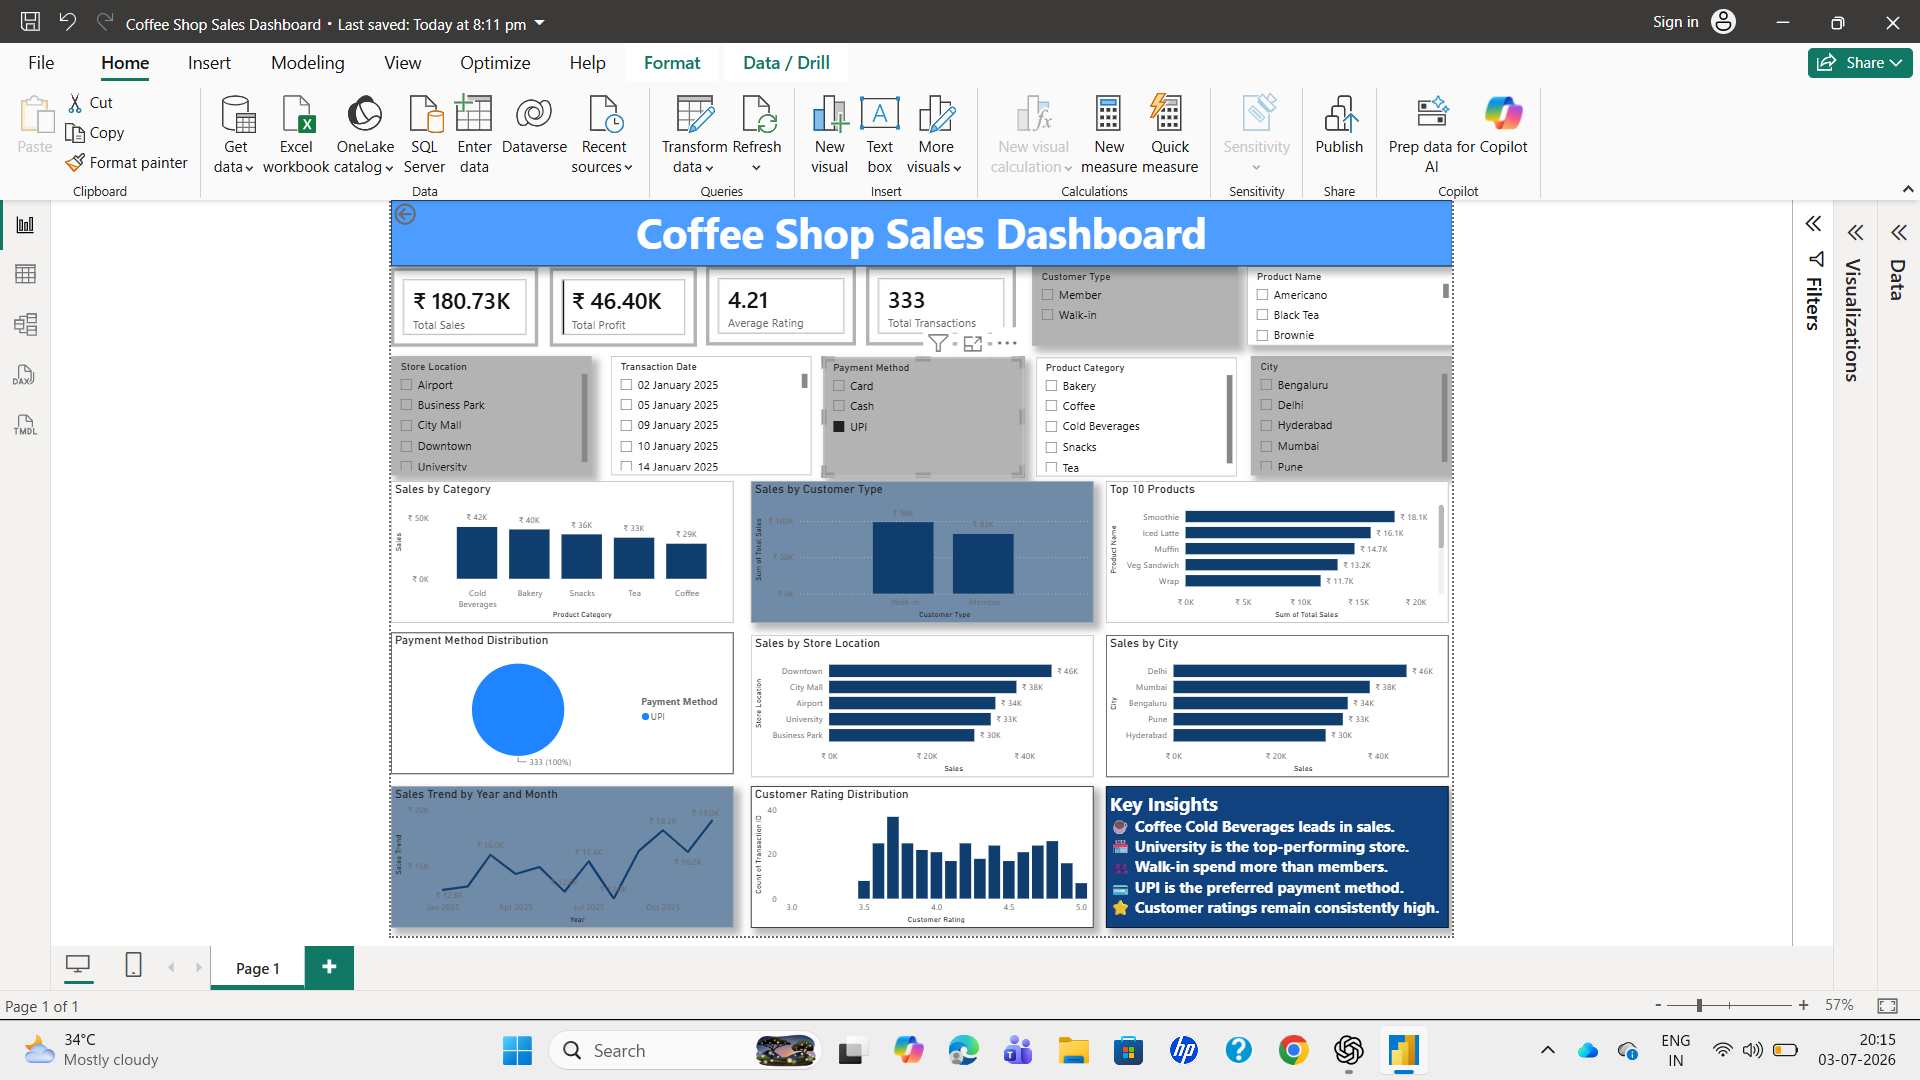

What the dashboard file says about the page in this screenshot:
{"tool":"powerbi","page":{"name":"Page 1","canvas":[1500,1040],"ordinal":0},"visuals":[{"type":"cardVisual","fields":{"Data":["Sum(CoffeeShopSales.Total Sales)"]},"box":[0,96,208,112],"z":0},{"type":"cardVisual","fields":{"Data":["Sum(CoffeeShopSales.Profit)"]},"box":[224,96,208,112],"z":1000},{"type":"cardVisual","fields":{"Data":["Avg(CoffeeShopSales.Customer Rating)"]},"box":[445,93.4,212.3,112.1],"z":2000},{"type":"cardVisual","fields":{"Data":["CoffeeShopSales.Total Transactions"]},"box":[670.9,93.4,212.3,112.1],"z":3000},{"type":"slicer","fields":{"Values":["CoffeeShopSales.City"]},"box":[1216,220.8,283.6,168.1],"z":4000},{"type":"slicer","fields":{"Values":["CoffeeShopSales.Store Location"]},"box":[0,220.8,283,168.1],"z":5000},{"type":"slicer","fields":{"Values":["CoffeeShopSales.Product Category"]},"box":[912,222.5,283.6,168.1],"z":6000},{"type":"slicer","fields":{"Values":["CoffeeShopSales.Customer Type"]},"box":[905.2,93.4,290.4,112.1],"z":7000},{"type":"slicer","fields":{"Values":["CoffeeShopSales.Payment Method"]},"box":[611.4,222.5,283,168.1],"z":8000},{"type":"slicer","fields":{"Values":["CoffeeShopSales.Product Name"]},"box":[1209.2,93.4,290.4,112.1],"z":9000},{"type":"slicer","fields":{"Values":["CoffeeShopSales.Transaction Date"]},"box":[310.8,220.8,283,168.1],"z":10000},{"type":"lineChart","fields":{"Y":["Sum(CoffeeShopSales.Total Sales)"],"Category":["CoffeeShopSales.Transaction Date.Variation.Date Hierarchy.Year","CoffeeShopSales.Transaction Date.Variation.Date Hierarchy.Month"]},"box":[0,829.2,484,200],"z":11000},{"type":"clusteredBarChart","fields":{"Y":["Sum(CoffeeShopSales.Total Sales)"],"Category":["CoffeeShopSales.City"]},"box":[1010.5,614.8,484,200.4],"z":12000},{"type":"clusteredBarChart","fields":{"Category":["CoffeeShopSales.Store Location"],"Y":["Sum(CoffeeShopSales.Total Sales)"]},"box":[507.8,614.8,484,200.4],"z":13000},{"type":"clusteredColumnChart","title":"Sales by Category","fields":{"Category":["CoffeeShopSales.Product Category"],"Y":["Sum(CoffeeShopSales.Total Sales)"]},"box":[0,397.4,484,200],"z":14000},{"type":"clusteredBarChart","title":"Top 10 Products","fields":{"Y":["Sum(CoffeeShopSales.Total Sales)"],"Category":["CoffeeShopSales.Product Name"]},"box":[1010.5,397.4,484,200],"z":15000},{"type":"pieChart","title":"Payment Method Distribution","fields":{"Category":["CoffeeShopSales.Payment Method"],"Y":["CountNonNull(CoffeeShopSales.Transaction ID)"]},"box":[0,611.4,484,200],"z":16000},{"type":"columnChart","title":" Sales by Customer Type","fields":{"Category":["CoffeeShopSales.Customer Type"],"Y":["Sum(CoffeeShopSales.Total Sales)"]},"box":[507.8,397.4,484,200],"z":17000},{"type":"textbox","box":[0,0,1499.7,93.4],"z":18000},{"type":"columnChart","title":"Customer Rating Distribution","fields":{"Category":["CoffeeShopSales.Customer Rating"],"Y":["CountNonNull(CoffeeShopSales.Transaction ID)"]},"box":[508,829,484,200],"z":19000},{"type":"textbox","box":[1011,829,484,200],"z":20000},{"type":"actionButton","box":[0,0,100,40],"z":20001}]}

Visuals, with their boxes on the page's 1500x1040 design canvas (x1, y1, x2, y2). These are canvas units, not pixel positions in the 1920x1080 screenshot, which may show the page scaled, cropped or inside an application window:
cardVisual - Sum(CoffeeShopSales.Total Sales): <box>0,96,208,208</box>
cardVisual - Sum(CoffeeShopSales.Profit): <box>224,96,432,208</box>
cardVisual - Avg(CoffeeShopSales.Customer Rating): <box>445,93,657,206</box>
cardVisual - CoffeeShopSales.Total Transactions: <box>671,93,883,206</box>
slicer - CoffeeShopSales.City: <box>1216,221,1500,389</box>
slicer - CoffeeShopSales.Store Location: <box>0,221,283,389</box>
slicer - CoffeeShopSales.Product Category: <box>912,222,1196,391</box>
slicer - CoffeeShopSales.Customer Type: <box>905,93,1196,206</box>
slicer - CoffeeShopSales.Payment Method: <box>611,222,894,391</box>
slicer - CoffeeShopSales.Product Name: <box>1209,93,1500,206</box>
slicer - CoffeeShopSales.Transaction Date: <box>311,221,594,389</box>
lineChart - Sum(CoffeeShopSales.Total Sales) x CoffeeShopSales.Transaction Date.Variation.Date Hierarchy.Year: <box>0,829,484,1029</box>
clusteredBarChart - Sum(CoffeeShopSales.Total Sales) x CoffeeShopSales.City: <box>1010,615,1494,815</box>
clusteredBarChart - CoffeeShopSales.Store Location x Sum(CoffeeShopSales.Total Sales): <box>508,615,992,815</box>
"Sales by Category" clusteredColumnChart: <box>0,397,484,597</box>
"Top 10 Products" clusteredBarChart: <box>1010,397,1494,597</box>
"Payment Method Distribution" pieChart: <box>0,611,484,811</box>
" Sales by Customer Type" columnChart: <box>508,397,992,597</box>
textbox: <box>0,0,1500,93</box>
"Customer Rating Distribution" columnChart: <box>508,829,992,1029</box>
textbox: <box>1011,829,1495,1029</box>
actionButton: <box>0,0,100,40</box>
